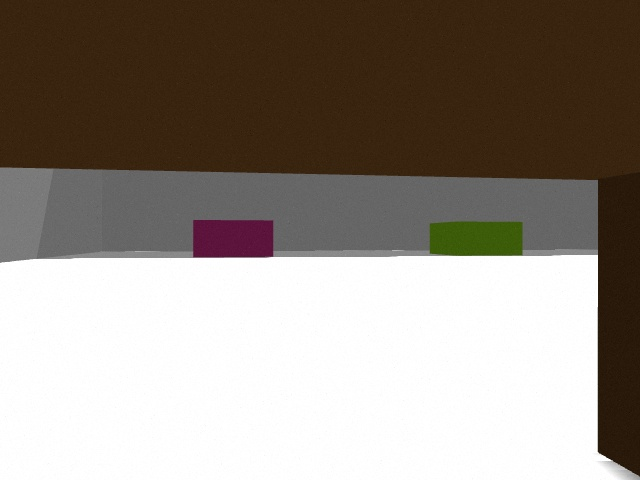green_drop_zone: (430, 221, 523, 256)
red_drop_zone: (193, 220, 273, 257)
